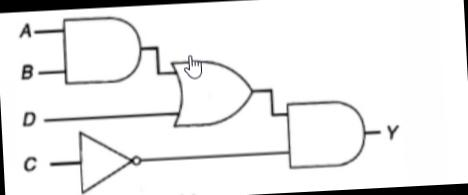and: (280, 92, 372, 174), (57, 10, 145, 92)
not: (73, 121, 142, 195)
